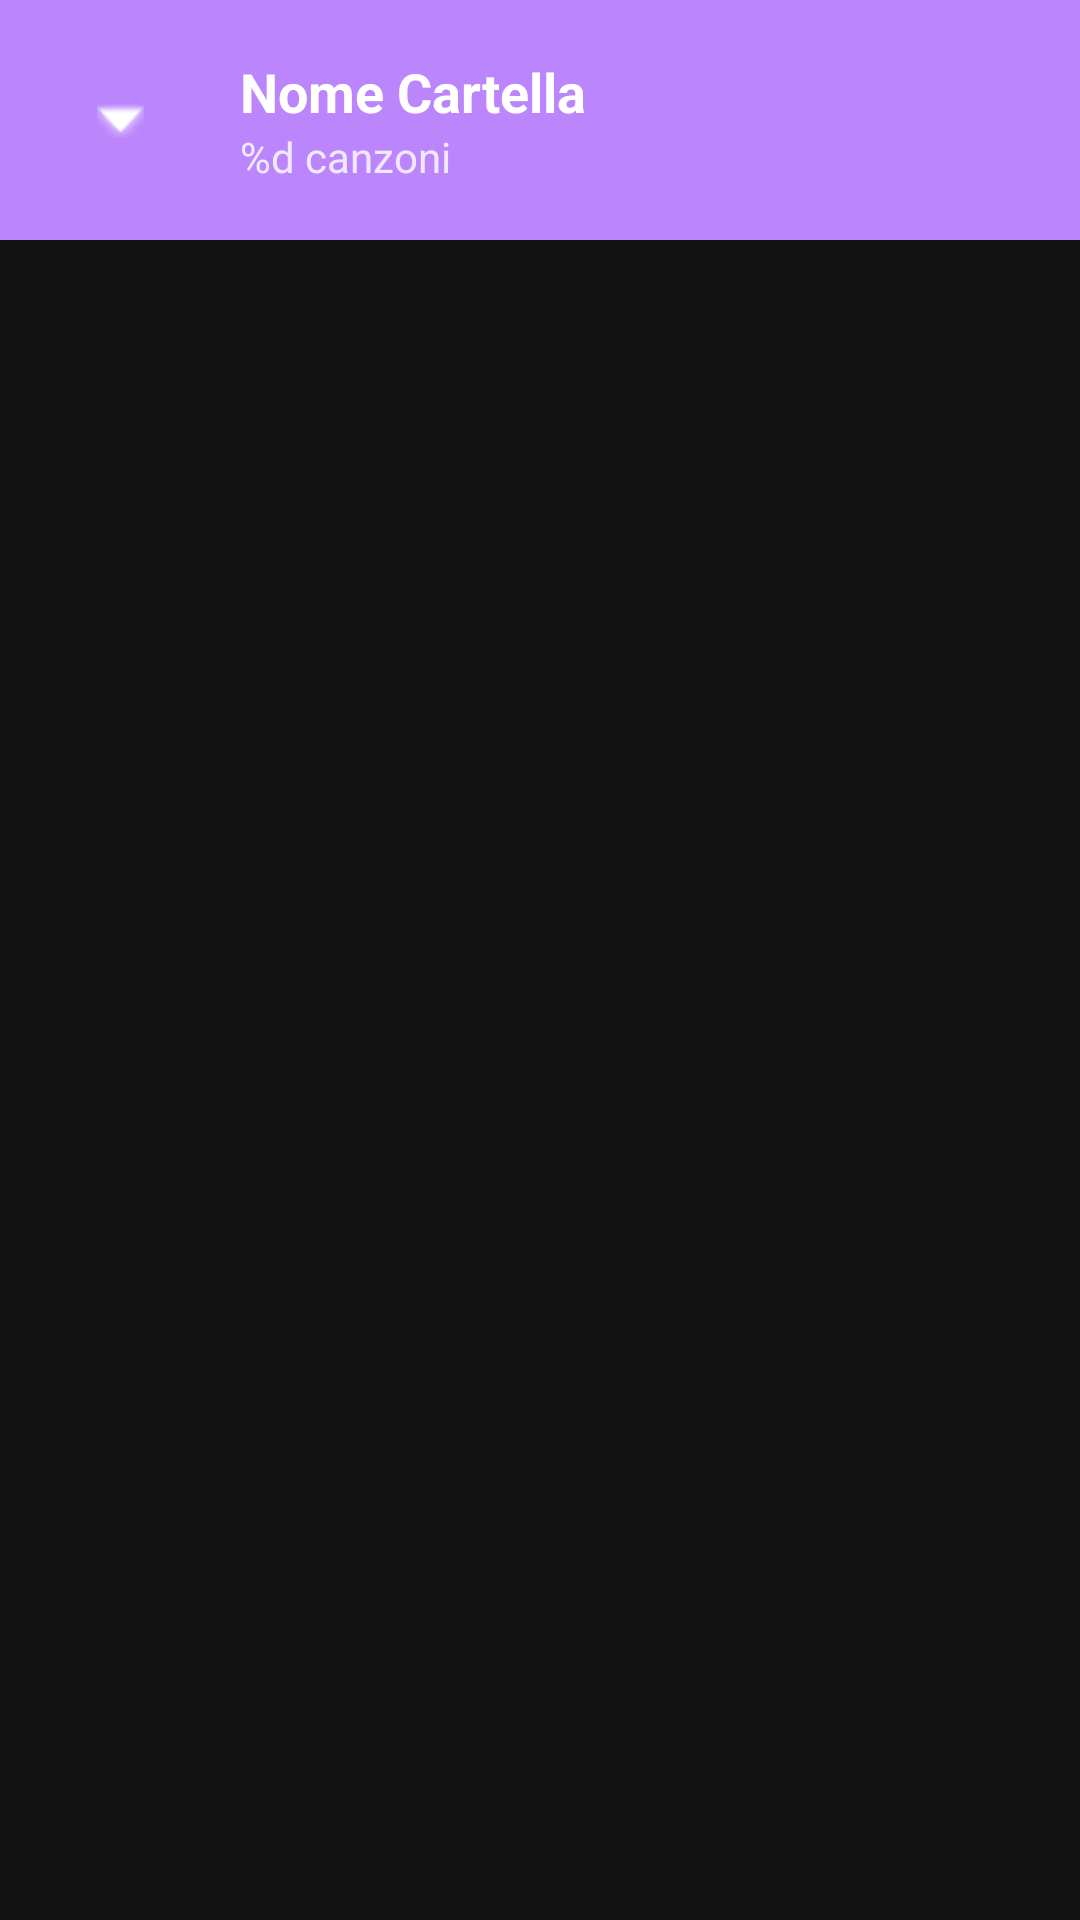

Named icons in this screenshot (1080 x 1920) and their bounding boxes, [x1, y1, x2, y2]:
Chiudi player: [97, 106, 144, 134]
